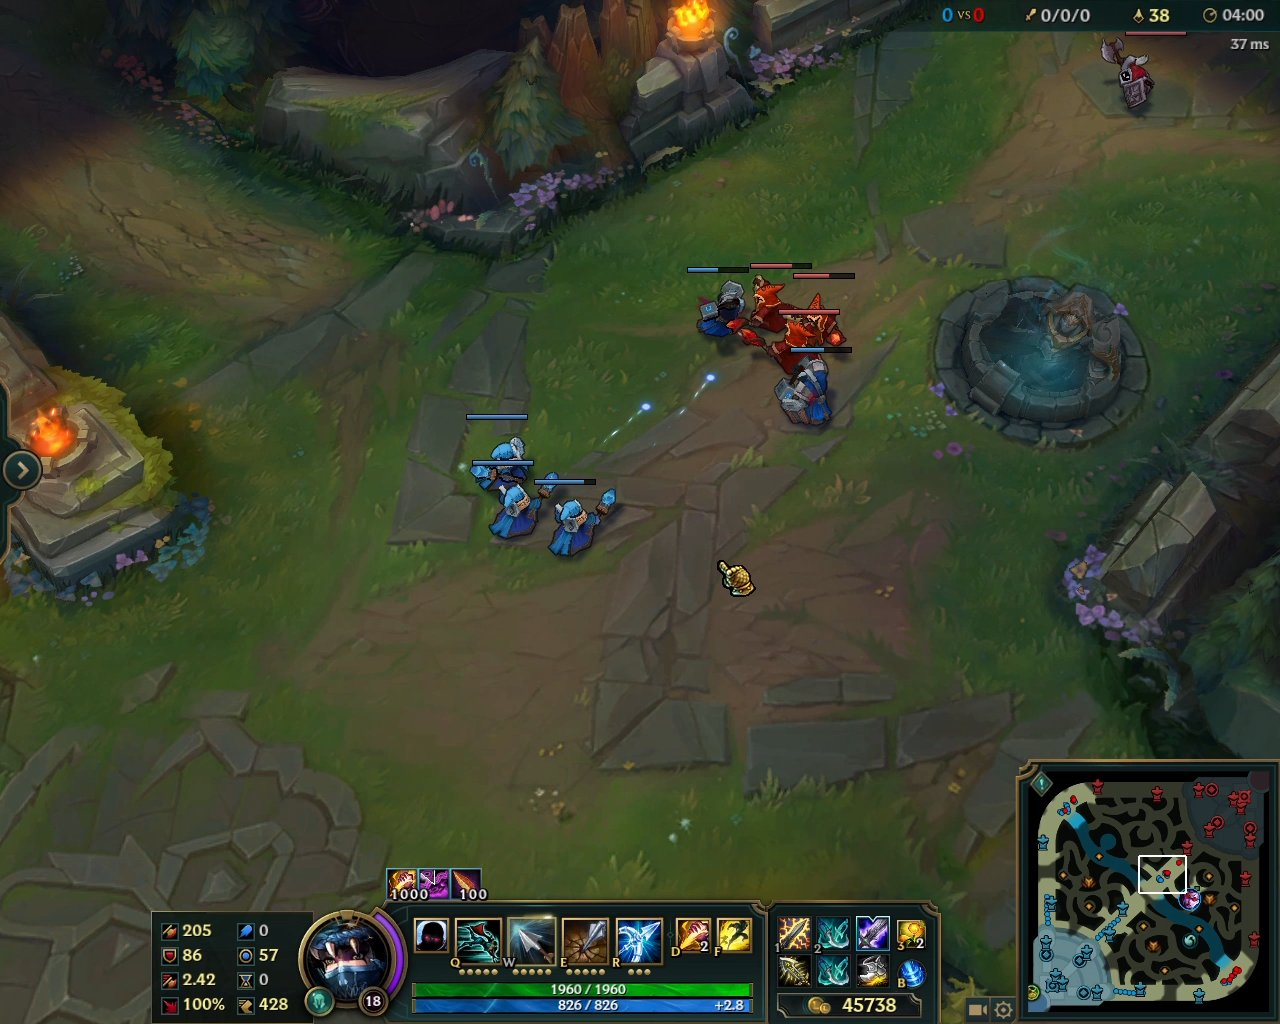EnemyMinion: (1094, 31, 1185, 113), (725, 261, 812, 333), (782, 272, 860, 349), (738, 324, 823, 380)
